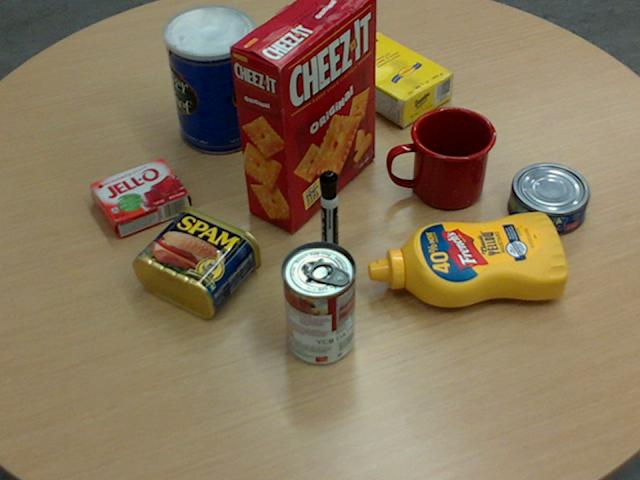cracker_box: (228, 0, 376, 232)
gelatin_box: (89, 156, 190, 237)
large_marker: (318, 171, 339, 265)
master_chef_can: (163, 4, 261, 154)
mug: (387, 105, 495, 208)
mustard_bottle: (367, 211, 567, 307)
potted_meat_can: (132, 204, 261, 317)
sugar_box: (306, 18, 453, 126)
tomato_soup_can: (279, 240, 355, 364)
tuna_fish_can: (507, 162, 588, 234)
